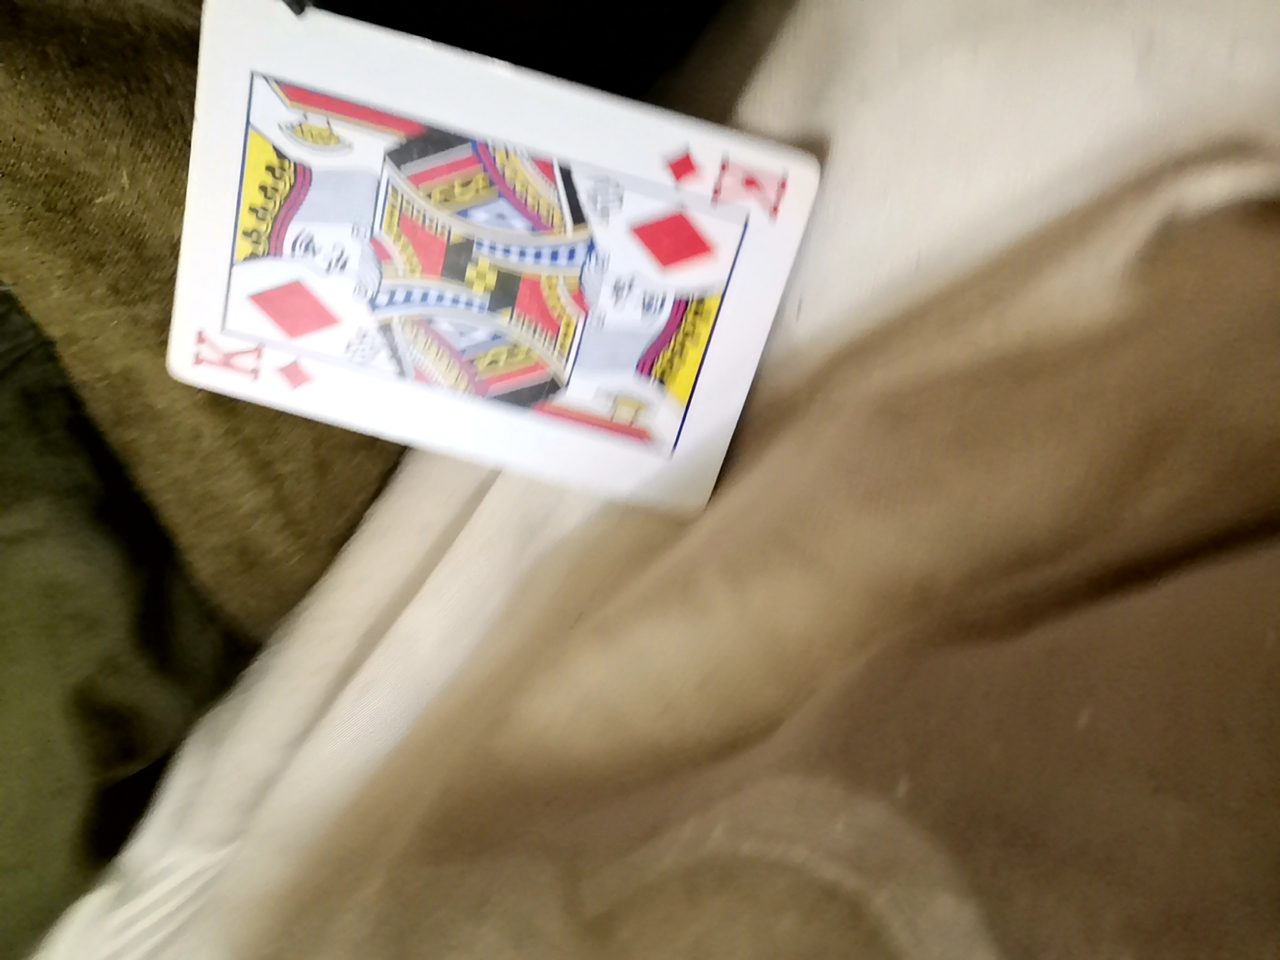fk k: (190, 6, 808, 417)
